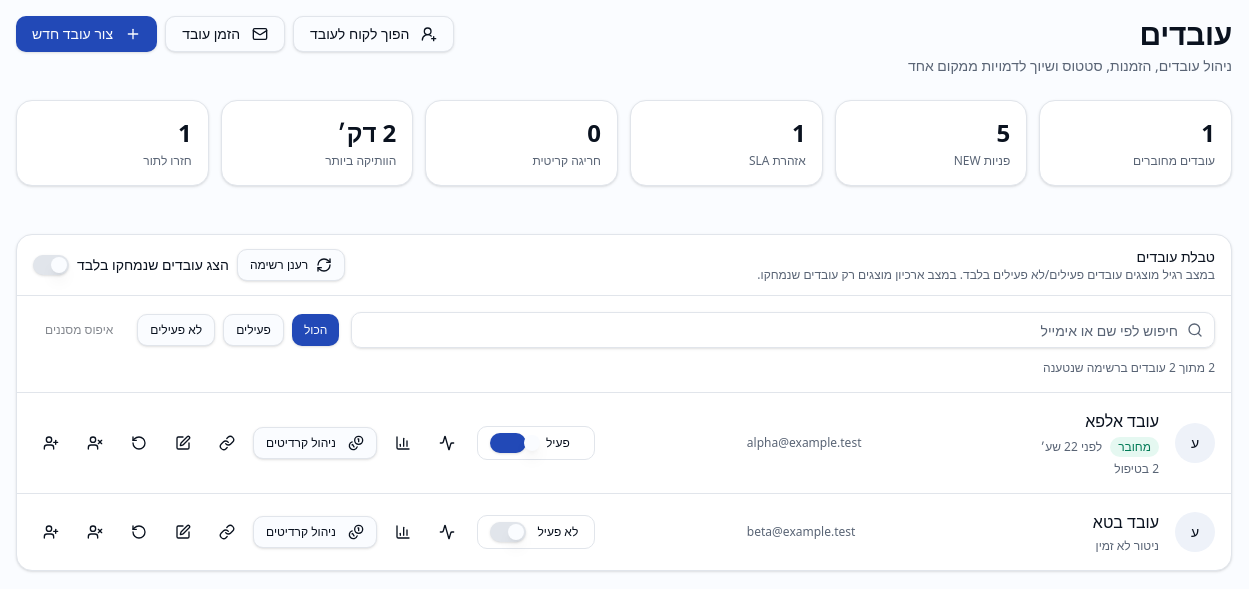
admin operator workspace › searches the loaded list by name or email, filters activity, resets filters, and preserves archive mode
The width and height of the screenshot is (1249, 589).
Expected: the text "עובד אלפא" is shown, x1=1085 y1=410 x2=1159 y2=432
Type "beta@example.test" into the search field with placeholder "חיפוש לפי שם או אימייל" at x=783, y=330, box x1=351 y1=312 x2=1215 y2=348
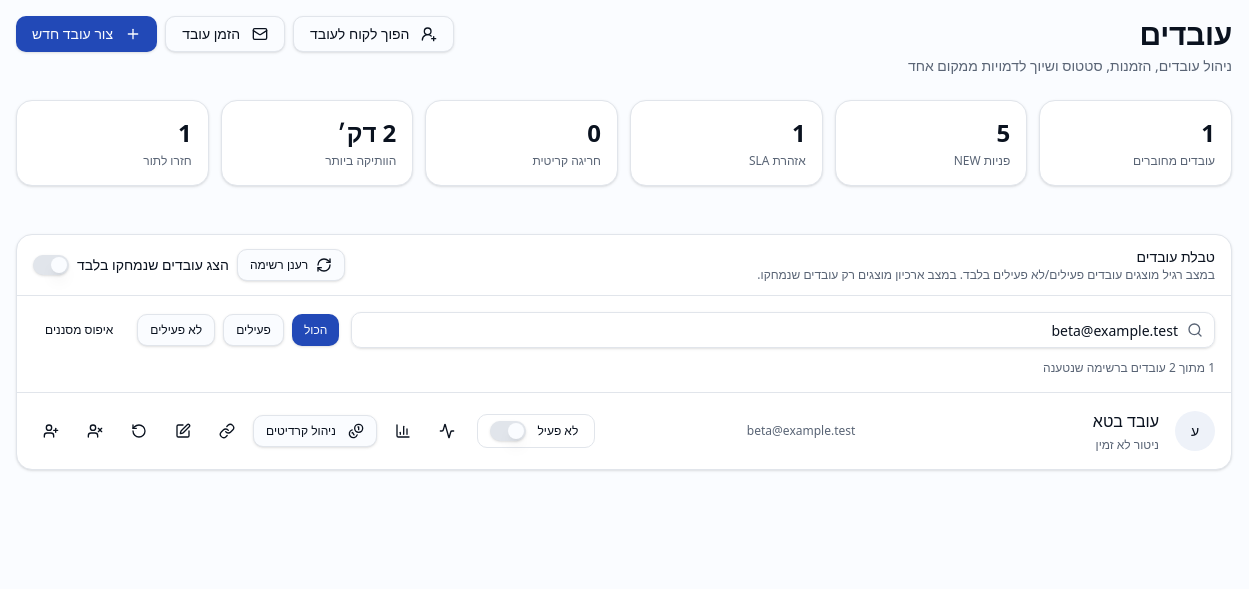
Expected: the text "עובד בטא" is shown, x1=1093 y1=410 x2=1159 y2=432
Result: the text "עובד אלפא" is gone
Result: the text "1 מתוך 2 עובדים ברשימה שנטענה" is shown at x1=1043 y1=359 x2=1215 y2=376
Click the button "לא פעילים" at x=176, y=330, box x1=137 y1=314 x2=215 y2=346
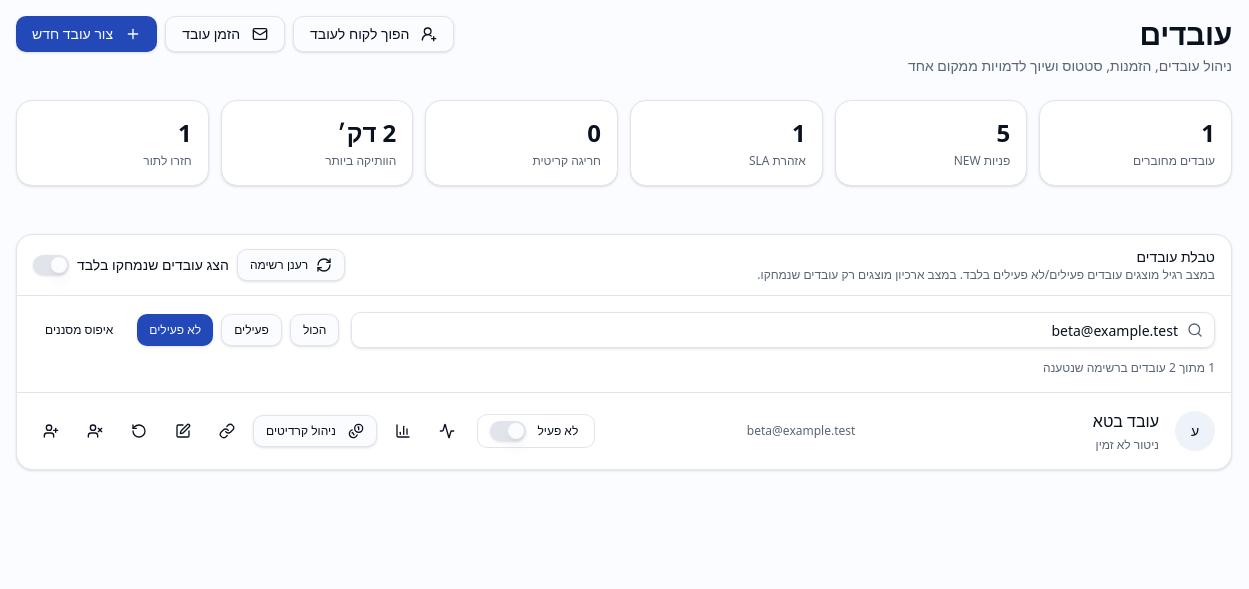
Expected: the text "עובד בטא" is shown, x1=1093 y1=410 x2=1159 y2=432
Replace the text in the search field named "חיפוש לפי שם או אימייל" with "לא קיים" at x=783, y=330, box x1=351 y1=312 x2=1215 y2=348
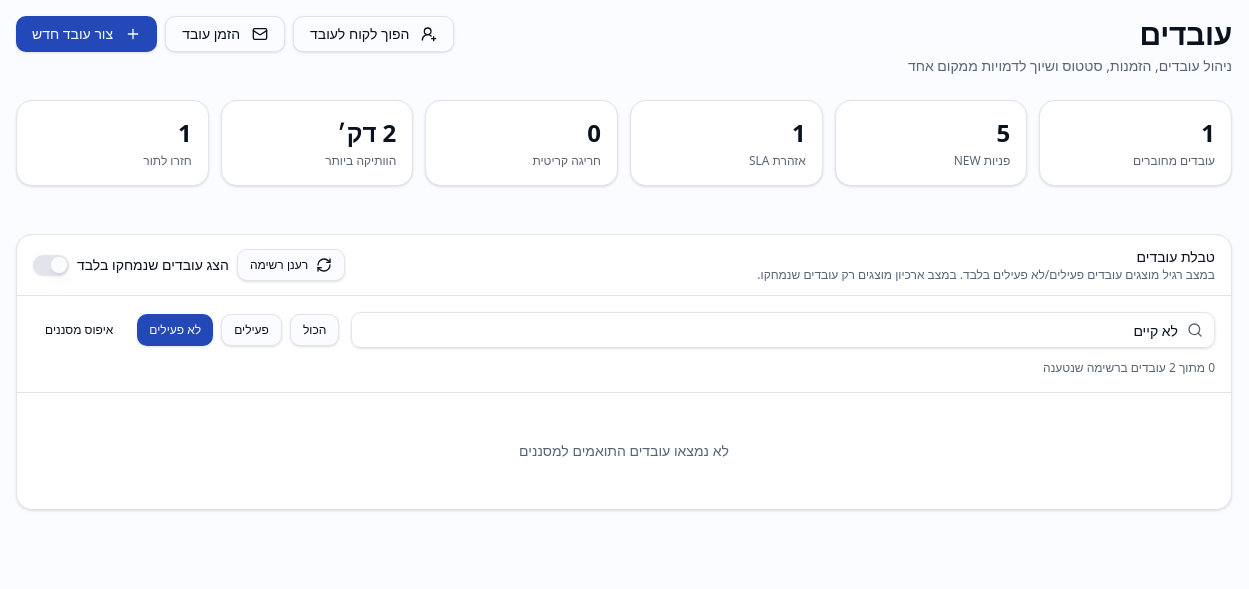
Result: the text "לא נמצאו עובדים התואמים למסננים" is shown at x1=519 y1=441 x2=729 y2=460
Click the button "איפוס מסננים" at x=79, y=330, box x1=33 y1=314 x2=125 y2=346
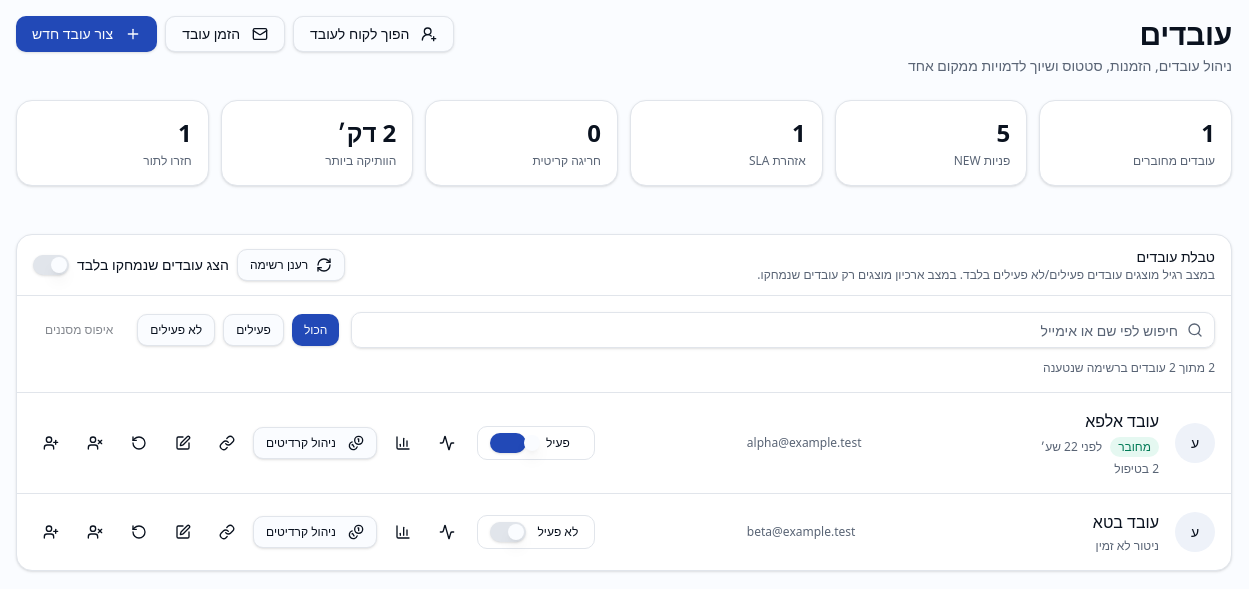
Result: the text "עובד אלפא" is shown at x1=1085 y1=410 x2=1159 y2=432
Result: the text "עובד בטא" is shown at x1=1093 y1=511 x2=1159 y2=533
Click the switch named "הצג עובדים שנמחקו בלבד" next to "הצג עובדים שנמחקו בלבד" at x=51, y=265, box x1=33 y1=255 x2=69 y2=275
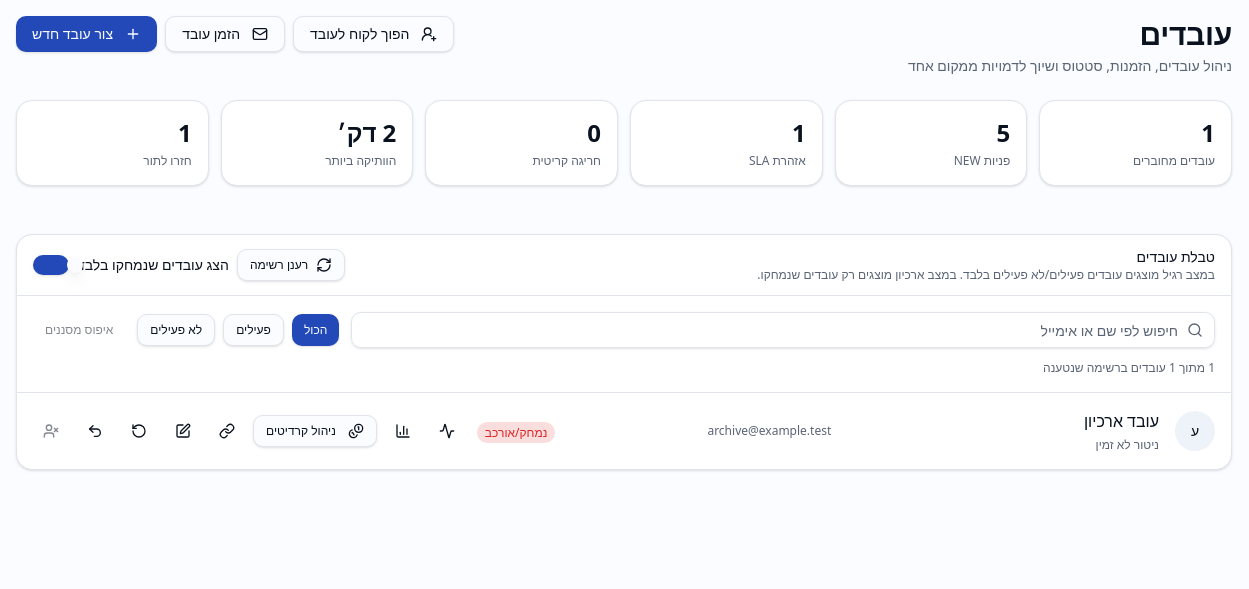
Result: the text "עובד ארכיון" is shown at x1=1084 y1=410 x2=1159 y2=432
